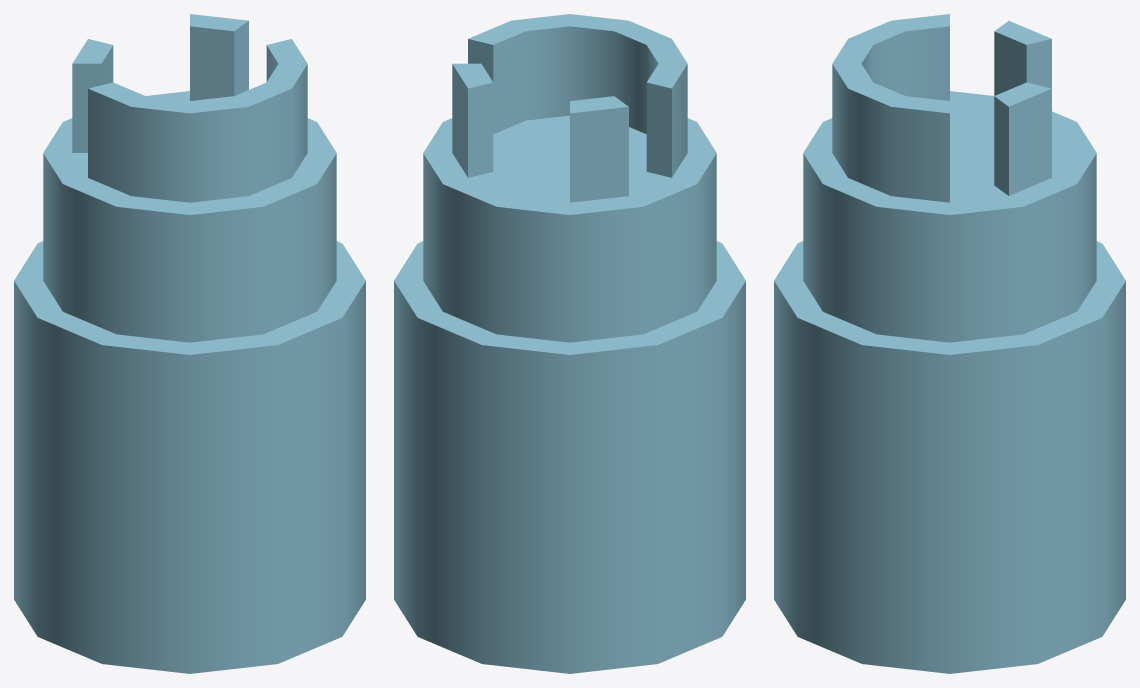
Rendered from wirePlugHappy.FBX.
The picture shows the model from 3 angles, left to right: view 1: azimuth 30°, elevation 25°; view 2: azimuth 150°, elevation 25°; view 3: azimuth 270°, elevation 25°; orthographic projection.
Visible parts, largest first — view 1: wirePlugBase, wirePlugMid, wirePlugTop; view 2: wirePlugBase, wirePlugMid, wirePlugTop; view 3: wirePlugBase, wirePlugMid, wirePlugTop.
Boxes of the visible parts, box(x1,y1,x2,y2) form: wirePlugBase: box(14, 241, 365, 673); wirePlugMid: box(43, 91, 336, 342); wirePlugTop: box(72, 14, 307, 202); wirePlugBase: box(394, 241, 745, 673); wirePlugMid: box(423, 115, 716, 342); wirePlugTop: box(452, 14, 687, 202); wirePlugBase: box(774, 241, 1125, 673); wirePlugMid: box(803, 91, 1096, 342); wirePlugTop: box(832, 14, 1051, 202).
Size of the model in its own units: 0.025 by 0.042 by 0.025.
